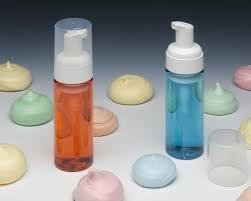Container for household chemicals: (46, 15, 100, 171), (160, 20, 206, 162)
